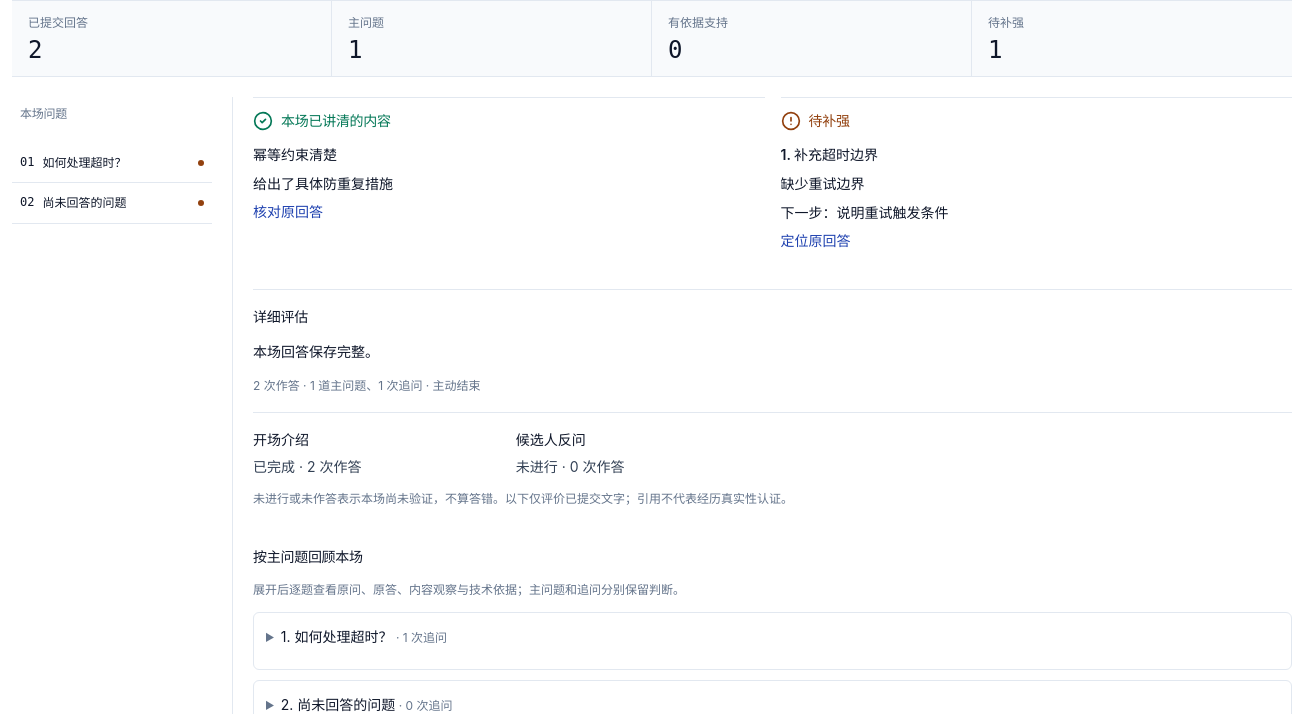
Test case: 首屏区分内容与依据，按主问题折叠并能定位原答
Expected: the element that starts with "详细评估" shows "2 次作答", [253,378,481,392]
Expected: the element showing "本场已讲清的内容 幂等约束清楚 给出了具体防重复措施 核对原回答" is shown, [253,97,764,269]
Click the button "定位原回答" at {"x": 816, "y": 241}, box [780,225,850,257]
(page scrolled)
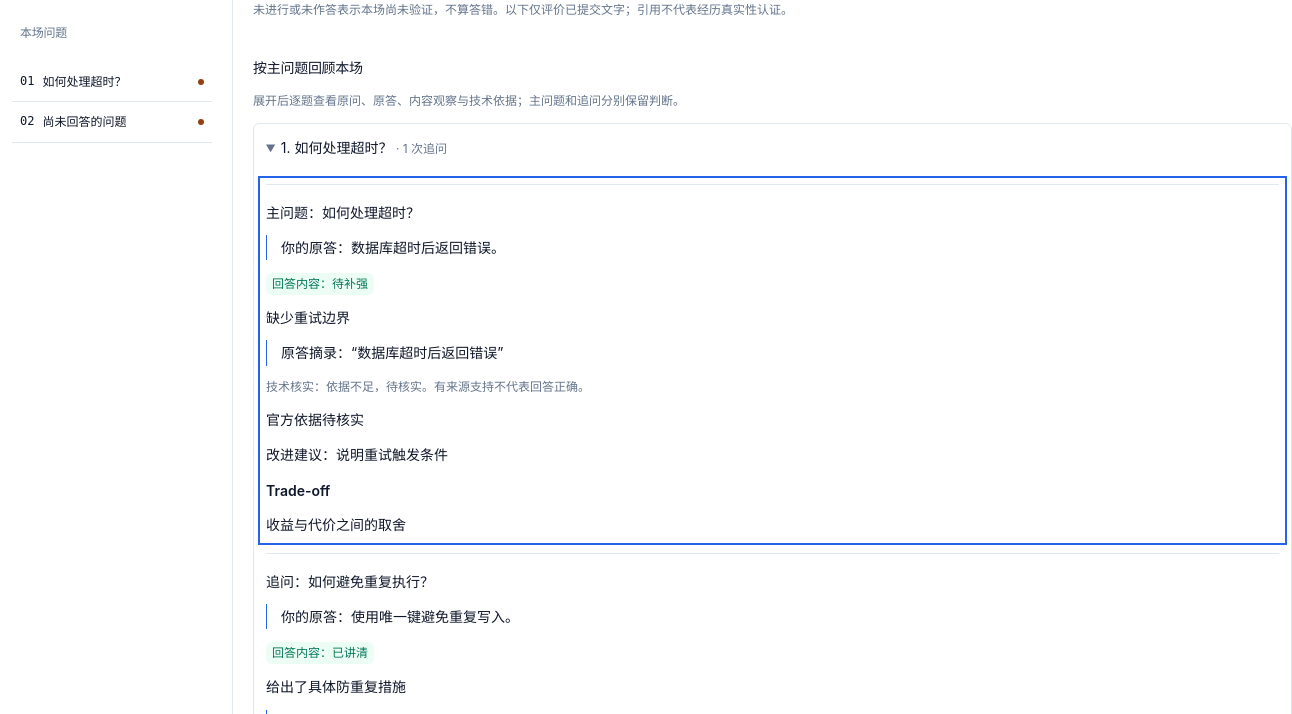
Expected: the element that starts with "主问题：如何处理超时？" shows "数据库超时后返回错误", [351,239,505,256]
Expected: the text "收益与代价之间的取舍" is shown, [266,516,406,533]
